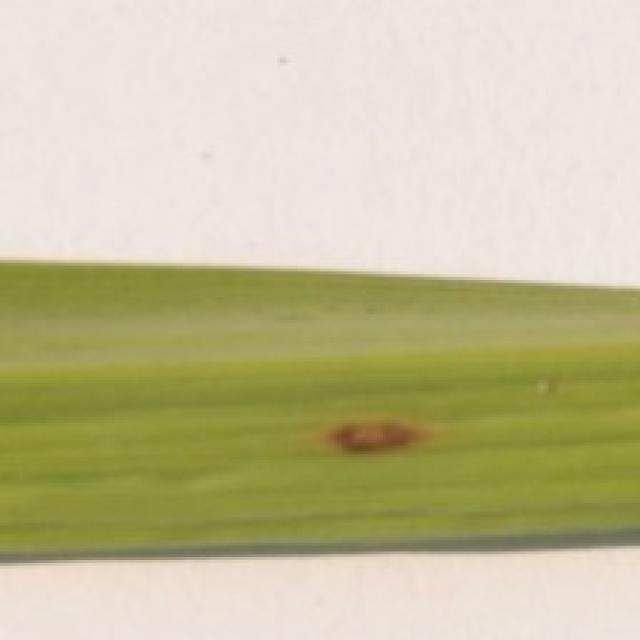Rice___Brown_Spot: (0, 259, 637, 565)
